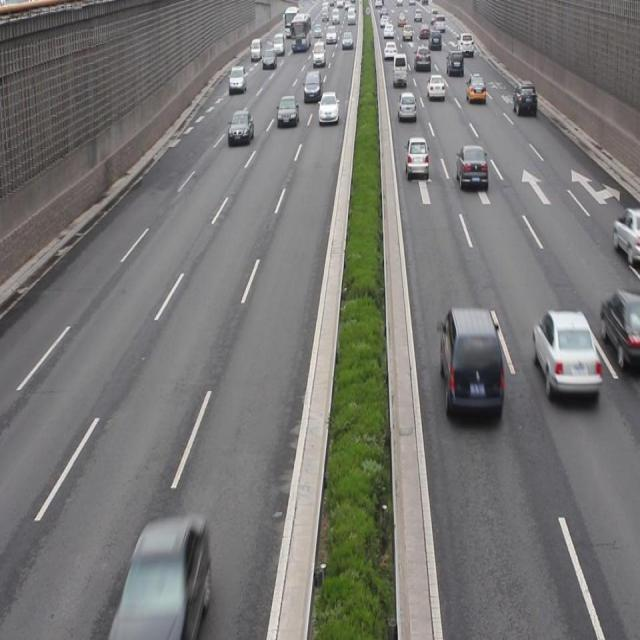car: (531, 309, 600, 402), (600, 288, 640, 370), (611, 207, 640, 267), (454, 146, 487, 188), (227, 110, 254, 146), (404, 137, 427, 178)
truck: (438, 308, 502, 421)
